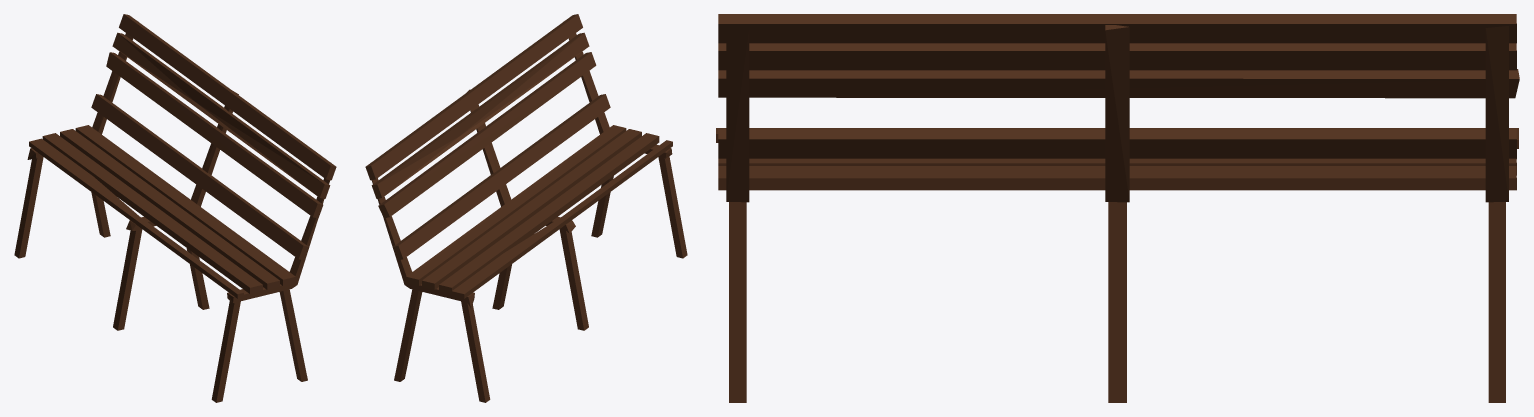
File: Model_Lawka1.fbx
3 renders of one model, left to right at view 1: azimuth 30°, elevation 25°; view 2: azimuth 150°, elevation 25°; view 3: azimuth 270°, elevation 25°, orthographic. The views are drawn at different scales.
Parts seen in each view (by area): view 1: Cube.007; view 2: Cube.007; view 3: Cube.007.
Part boxes in pixels (box(x1,y1,x2,y2)): Cube.007: box(14, 14, 336, 402); Cube.007: box(365, 14, 687, 402); Cube.007: box(716, 14, 1519, 402).
Size of the model in its own units: 232 by 130 by 77.44.
